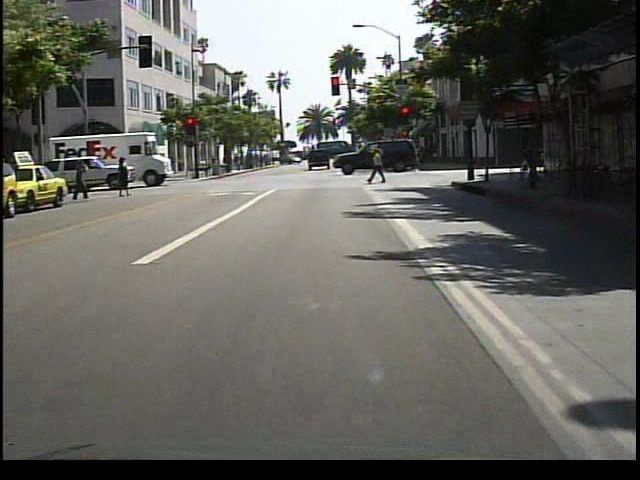person: (518, 136, 546, 190), (69, 159, 94, 203), (367, 147, 390, 185), (113, 155, 132, 200)
